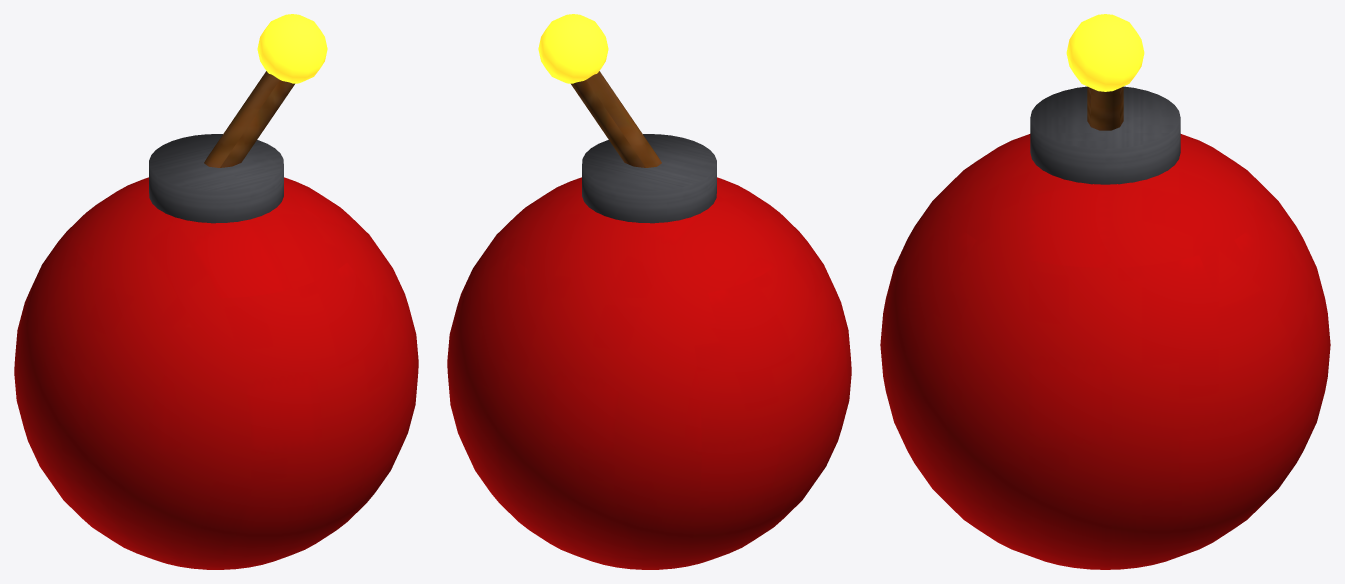
3 renders of one model, left to right at view 1: azimuth 30°, elevation 25°; view 2: azimuth 150°, elevation 25°; view 3: azimuth 270°, elevation 25°, orthographic. The views are drawn at different scales.
Parts seen in each view (by area): view 1: Bomb, Cap, Spark, Fuse; view 2: Bomb, Cap, Spark, Fuse; view 3: Bomb, Cap, Spark, Fuse.
Boxes of the visible parts, left/top/right/bottom form: Bomb: left=14, top=177, right=418, bottom=569; Cap: left=149, top=134, right=283, bottom=223; Spark: left=257, top=14, right=327, bottom=83; Fuse: left=204, top=71, right=294, bottom=167; Bomb: left=447, top=177, right=851, bottom=569; Cap: left=582, top=134, right=716, bottom=223; Spark: left=538, top=14, right=608, bottom=83; Fuse: left=571, top=71, right=661, bottom=167; Bomb: left=880, top=134, right=1330, bottom=569; Cap: left=1030, top=86, right=1180, bottom=184; Spark: left=1066, top=14, right=1144, bottom=91; Fuse: left=1087, top=86, right=1123, bottom=130.
Bounding box in the file's own units: 0.3 × 0.421 × 0.3.
Materials: 4 (3 with a texture image).
